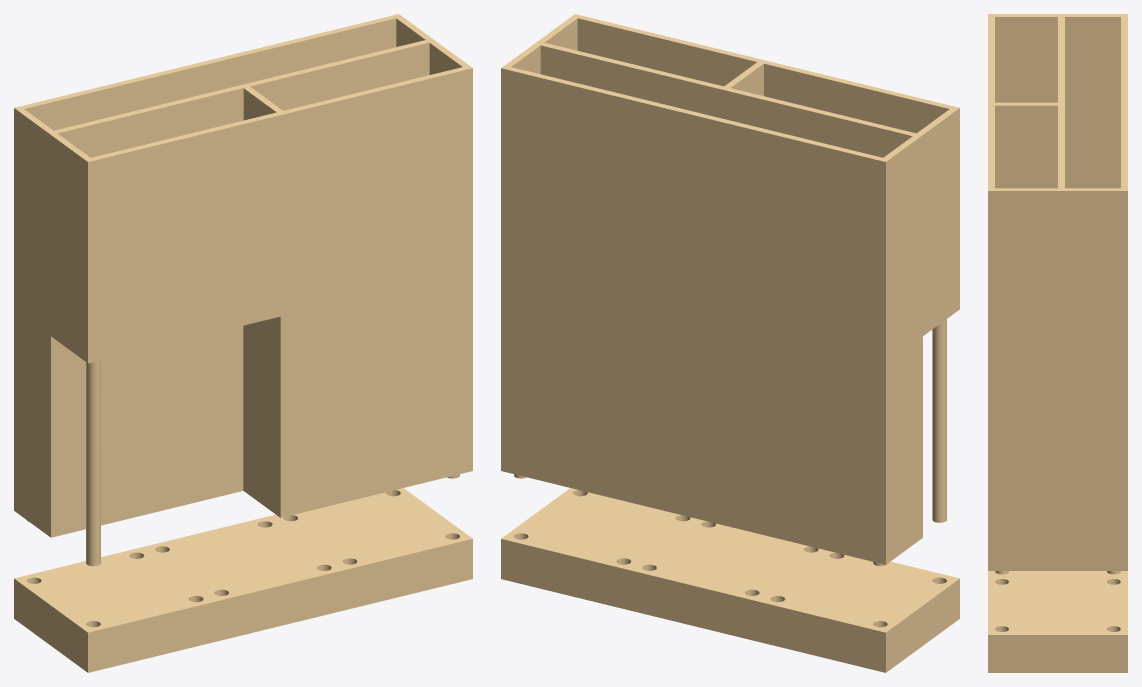
File: example4_sep.glb
The picture shows the model from 3 angles, left to right: view 1: azimuth 30°, elevation 25°; view 2: azimuth 150°, elevation 25°; view 3: azimuth 270°, elevation 25°; orthographic projection. The views are drawn at different scales.
Visible parts, largest first — view 1: example4, example4001; view 2: example4, example4001; view 3: example4, example4001.
Part boxes in pixels (box(x1,y1,x2,y2)): example4: box(14, 14, 472, 566); example4001: box(14, 488, 472, 672); example4: box(501, 14, 959, 566); example4001: box(501, 488, 959, 672); example4: box(988, 14, 1127, 574); example4001: box(988, 571, 1127, 672).
Bounding box in the file's own units: 0.9 × 1.16 × 0.3.
